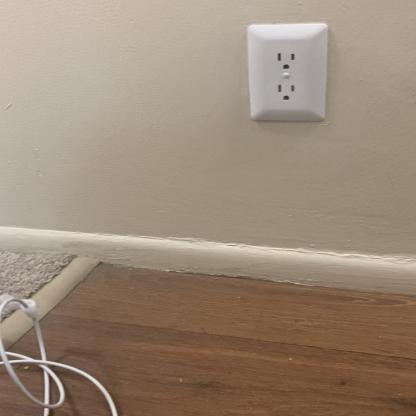OUTLET: (245, 22, 330, 124)
